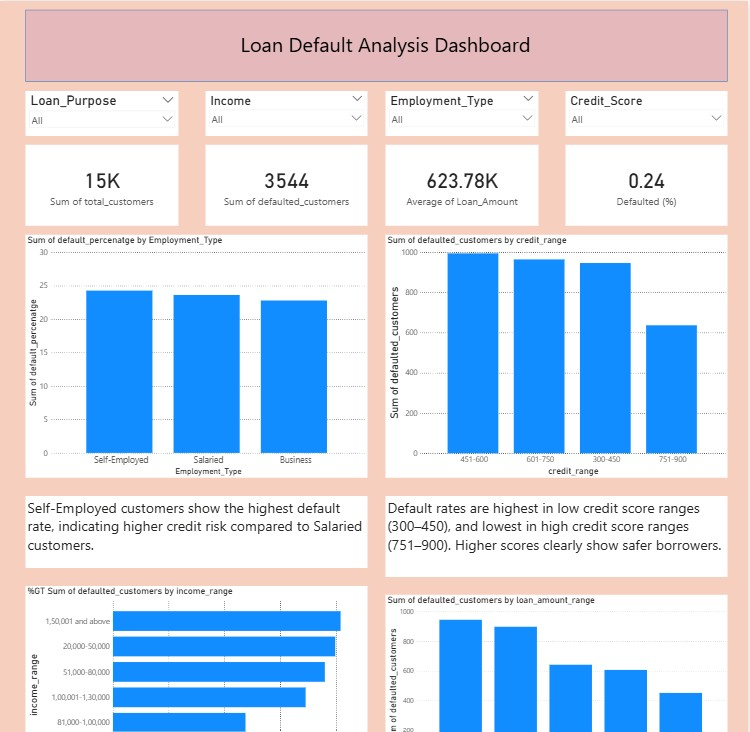

The dashboard page shown, as its layout file describes it:
{"tool":"powerbi","page":{"name":"Page 1","canvas":[2000,3200],"ordinal":0},"visuals":[{"type":"columnChart","fields":{"Category":["employment typ vs default risk.Employment_Type"],"Y":["Sum(employment typ vs default risk.default_percenatge)"]},"box":[72,624,912,648],"z":0},{"type":"clusteredColumnChart","fields":{"Category":["credit score vs default range.credit_range"],"Y":["Sum(credit score vs default range.defaulted_customers)"]},"box":[1032,624,912,648],"z":1000},{"type":"clusteredBarChart","fields":{"Category":["income range vs default rate.income_range"],"Y":["Sum(income range vs default rate.defaulted_customers)"]},"box":[72,1560,912,552],"z":2000},{"type":"clusteredColumnChart","fields":{"Category":["Loan amnt vs def rate.loan_amount_range"],"Y":["Sum(Loan amnt vs def rate.defaulted_customers)"]},"box":[1032,1584,912,528],"z":3000},{"type":"pieChart","fields":{"Y":["Sum(loan purpose vs def rate.cnt_loan)"],"Category":["loan purpose vs def rate.Loan_Purpose"]},"box":[216,2424,840,648],"z":4000},{"type":"card","fields":{"Values":["Sum(income range vs default rate.total_customers)"]},"box":[72,384,408,216],"z":5000},{"type":"shape","box":[72,24,1872,192],"z":6000},{"type":"textbox","box":[432,72,1200,120],"z":7000},{"type":"card","fields":{"Values":["Sum(income range vs default rate.defaulted_customers)"]},"box":[552,384,432,216],"z":8000},{"type":"card","fields":{"Values":["Loan amnt vs def rate.Defaulted (%)"]},"box":[1512,384,432,216],"z":9000},{"type":"card","fields":{"Values":["Avg(loan_default_dataset_15000_rows.Loan_Amount)"]},"box":[1032,384,408,216],"z":10000},{"type":"textbox","box":[72,1320,912,192],"z":11000},{"type":"textbox","box":[1032,1320,912,216],"z":12000},{"type":"textbox","box":[72,2136,912,168],"z":13000},{"type":"textbox","box":[1032,2136,912,168],"z":14000},{"type":"textbox","box":[1128,2496,624,216],"z":15000},{"type":"slicer","fields":{"Values":["loan_default_dataset_15000_rows.Loan_Purpose"]},"box":[72,240,408,120],"z":16000},{"type":"slicer","fields":{"Values":["loan_default_dataset_15000_rows.Employment_Type"]},"box":[1032,240,408,120],"z":17000},{"type":"slicer","fields":{"Values":["loan_default_dataset_15000_rows.Income"]},"box":[552,240,432,120],"z":18000},{"type":"slicer","fields":{"Values":["loan_default_dataset_15000_rows.Credit_Score"]},"box":[1512,240,432,120],"z":19000}]}

Visuals, with their boxes on the page's 2000x3200 design canvas (x1, y1, x2, y2). These are canvas units, not pixel positions in the 750x732 screenshot, which may show the page scaled, cropped or inside an application window:
columnChart - employment typ vs default risk.Employment_Type x Sum(employment typ vs default risk.default_percenatge): 72,624,984,1272
clusteredColumnChart - credit score vs default range.credit_range x Sum(credit score vs default range.defaulted_customers): 1032,624,1944,1272
clusteredBarChart - income range vs default rate.income_range x Sum(income range vs default rate.defaulted_customers): 72,1560,984,2112
clusteredColumnChart - Loan amnt vs def rate.loan_amount_range x Sum(Loan amnt vs def rate.defaulted_customers): 1032,1584,1944,2112
pieChart - Sum(loan purpose vs def rate.cnt_loan) x loan purpose vs def rate.Loan_Purpose: 216,2424,1056,3072
card - Sum(income range vs default rate.total_customers): 72,384,480,600
shape: 72,24,1944,216
textbox: 432,72,1632,192
card - Sum(income range vs default rate.defaulted_customers): 552,384,984,600
card - Loan amnt vs def rate.Defaulted (%): 1512,384,1944,600
card - Avg(loan_default_dataset_15000_rows.Loan_Amount): 1032,384,1440,600
textbox: 72,1320,984,1512
textbox: 1032,1320,1944,1536
textbox: 72,2136,984,2304
textbox: 1032,2136,1944,2304
textbox: 1128,2496,1752,2712
slicer - loan_default_dataset_15000_rows.Loan_Purpose: 72,240,480,360
slicer - loan_default_dataset_15000_rows.Employment_Type: 1032,240,1440,360
slicer - loan_default_dataset_15000_rows.Income: 552,240,984,360
slicer - loan_default_dataset_15000_rows.Credit_Score: 1512,240,1944,360
